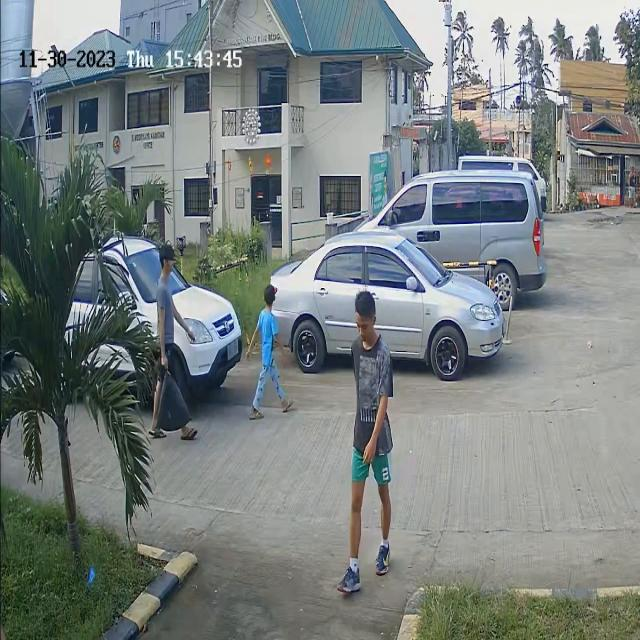garbage: (154, 371, 191, 437)
person: (354, 292, 394, 403), (152, 245, 178, 352), (257, 282, 285, 378), (501, 8, 540, 56), (10, 46, 40, 72)
